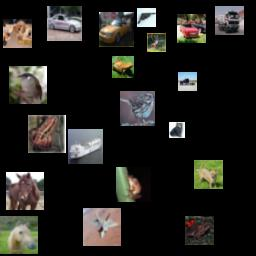airplane: (83, 208, 121, 246), (137, 8, 156, 27)
automobile: (47, 6, 82, 41), (99, 12, 134, 47), (177, 14, 206, 43)
bird: (9, 66, 47, 104), (120, 91, 155, 126)
cat: (169, 122, 185, 138)
deer: (147, 33, 166, 52)
dog: (3, 19, 32, 48), (194, 160, 223, 189)
frog: (28, 115, 66, 153), (116, 167, 151, 202), (185, 216, 214, 245), (112, 56, 134, 78)
ship: (68, 129, 103, 164)
truck: (215, 6, 244, 35), (178, 72, 197, 91)
